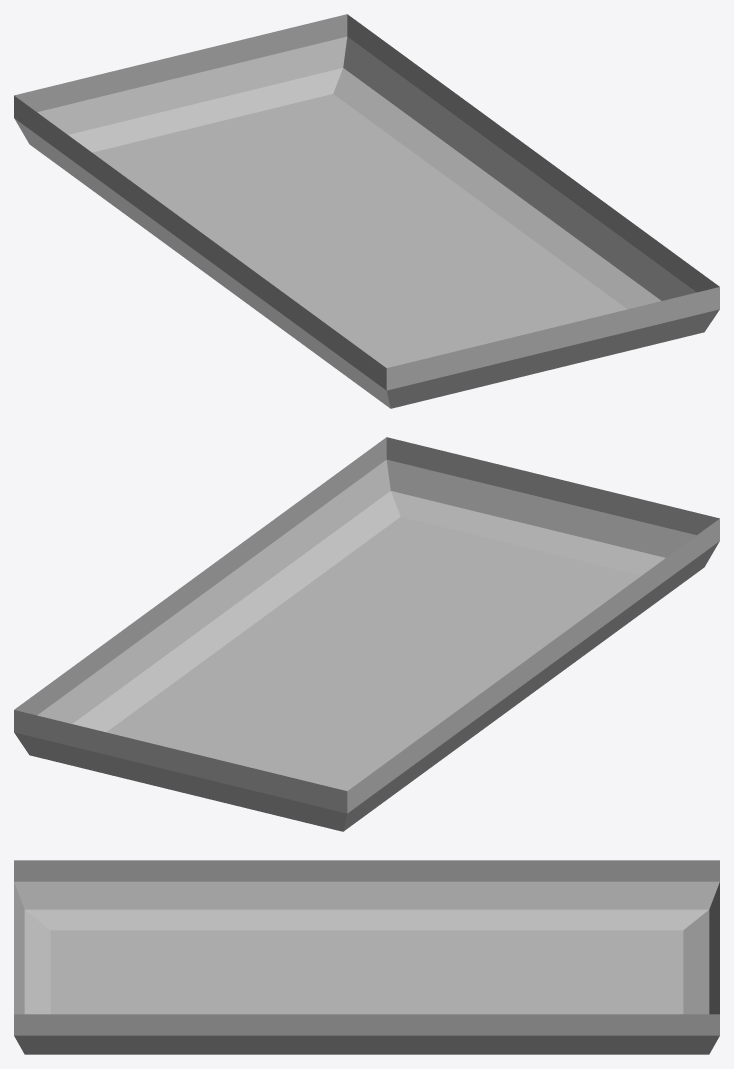
Rendered from PWROUTLET1.fbx.
3 renders of one model, top to bottom at view 1: azimuth 30°, elevation 25°; view 2: azimuth 150°, elevation 25°; view 3: azimuth 270°, elevation 25°, orthographic. The views are drawn at different scales.
Visible parts, largest first — view 1: Cube; view 2: Cube; view 3: Cube.
Part boxes in pixels (x1,y1,x2,y2): Cube: [14, 14, 719, 408]; Cube: [14, 437, 719, 831]; Cube: [14, 860, 719, 1054].
Bounding box in the file's own units: 103 × 17 × 200.
Materials: 1 (1 with a texture image).
